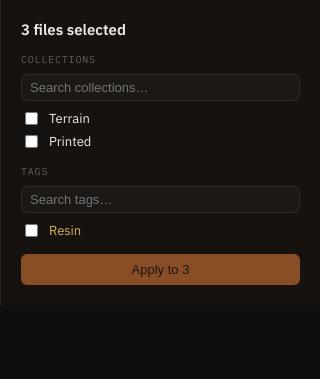
Test: BatchAssignPanel › shows an alert and keeps the staged set when apply fails
Click the checkbox labelled "Terrain" at [32, 118], box [25,112,38,125]
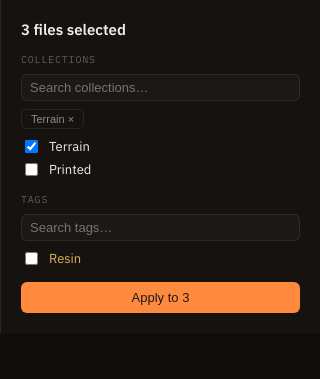
Click the button "Apply to 3" at [160, 298], box [21,282,300,313]
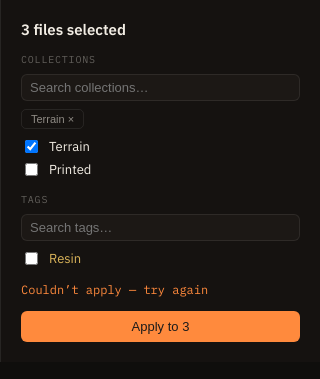
Expected: the button "Apply to 3" is enabled, [21,311,300,342]
Expected: the message "Couldn’t apply — try again" is shown, [21,282,208,297]
